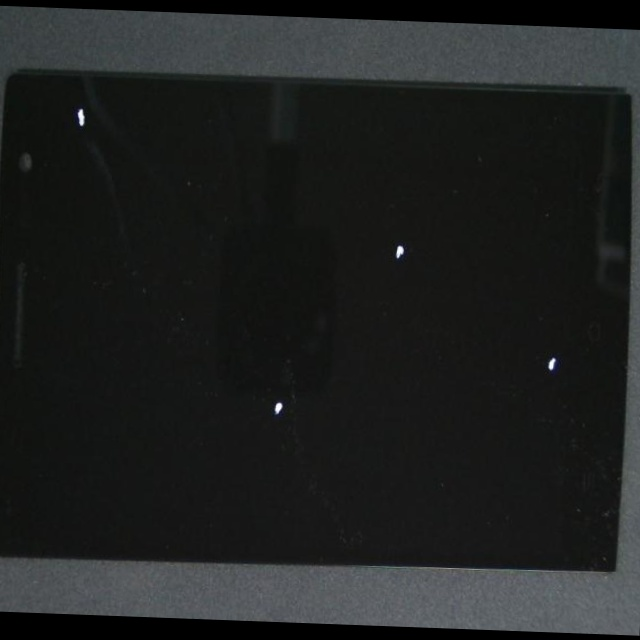stain: (59, 229, 432, 627), (258, 124, 640, 502), (132, 115, 612, 400), (23, 136, 167, 234)
